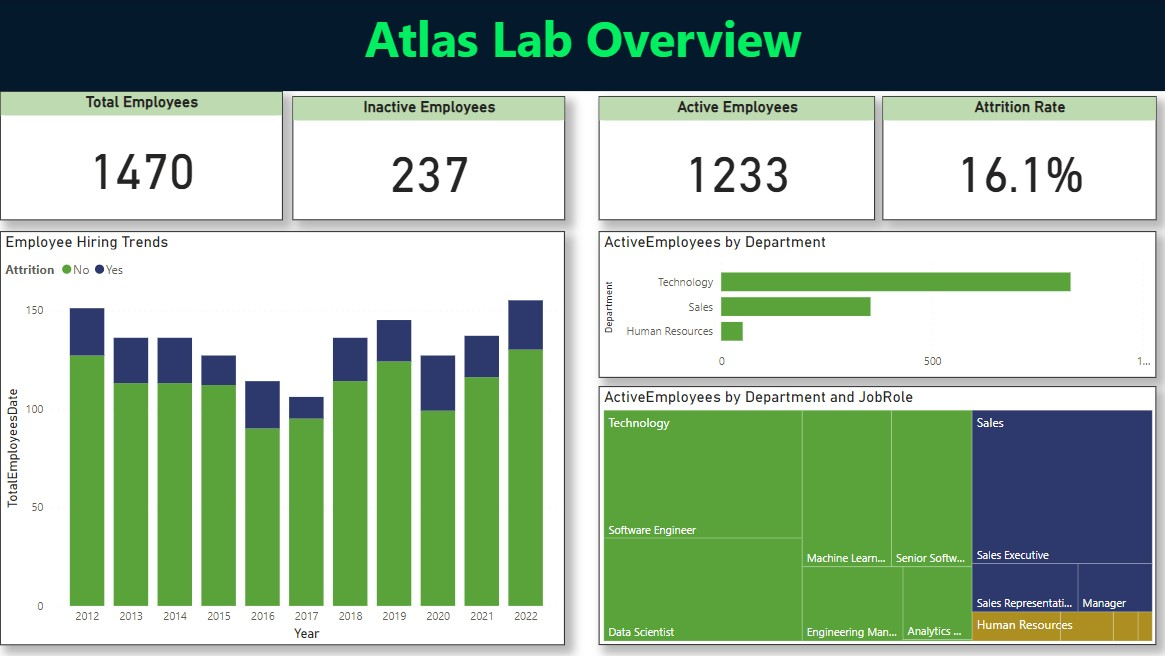

What the dashboard file says about the page in this screenshot:
{"tool":"powerbi","page":{"name":"Overview","canvas":[1280,720],"ordinal":0},"visuals":[{"type":"card","title":"Total Employees","fields":{"Values":["_Measures.TotalEmployees"]},"box":[0,100.2,310.1,141.3],"z":0},{"type":"card","title":"Active Employees","fields":{"Values":["_Measures.ActiveEmployees"]},"box":[657.3,105.7,303.3,135.8],"z":1000},{"type":"card","title":"Inactive Employees","fields":{"Values":["_Measures.InactiveEmployees"]},"box":[321.1,105.7,299.1,135.8],"z":2000},{"type":"card","title":"Attrition Rate","fields":{"Values":["_Measures.% Attrition Rate"]},"box":[968.8,105.7,300.5,135.8],"z":3000},{"type":"columnChart","title":"Employee Hiring Trends","fields":{"Y":["_Measures.TotalEmployeesDate"],"Series":["DimEmployee.Attrition"],"Category":["DimDate.Date.Variation.Date Hierarchy.Year"]},"box":[0,253.9,620.2,454.2],"z":4000},{"type":"clusteredBarChart","fields":{"Y":["_Measures.ActiveEmployees"],"Category":["DimEmployee.Department"]},"box":[657.3,253.9,612,160.5],"z":5000},{"type":"treemap","fields":{"Group":["DimEmployee.Department"],"Values":["_Measures.ActiveEmployees"],"Details":["DimEmployee.JobRole"]},"box":[657.3,424,612,284],"z":6000},{"type":"textbox","box":[0,0,1280.3,100.2],"z":7000}]}

Visuals, with their boxes in screenshot pixels (x1, y1, x2, y2), scaled from the page's 1280x720 canvas onto the 1165x656 screenshot:
"Total Employees" card: crop(0, 91, 282, 220)
"Active Employees" card: crop(598, 96, 874, 220)
"Inactive Employees" card: crop(292, 96, 564, 220)
"Attrition Rate" card: crop(882, 96, 1155, 220)
"Employee Hiring Trends" columnChart: crop(0, 231, 564, 645)
clusteredBarChart - _Measures.ActiveEmployees x DimEmployee.Department: crop(598, 231, 1155, 378)
treemap - DimEmployee.Department x _Measures.ActiveEmployees: crop(598, 386, 1155, 645)
textbox: crop(0, 0, 1164, 91)
